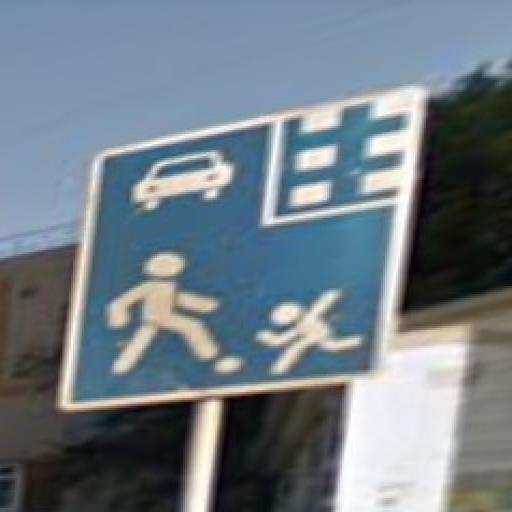traffic_sign: (55, 85, 431, 415)
